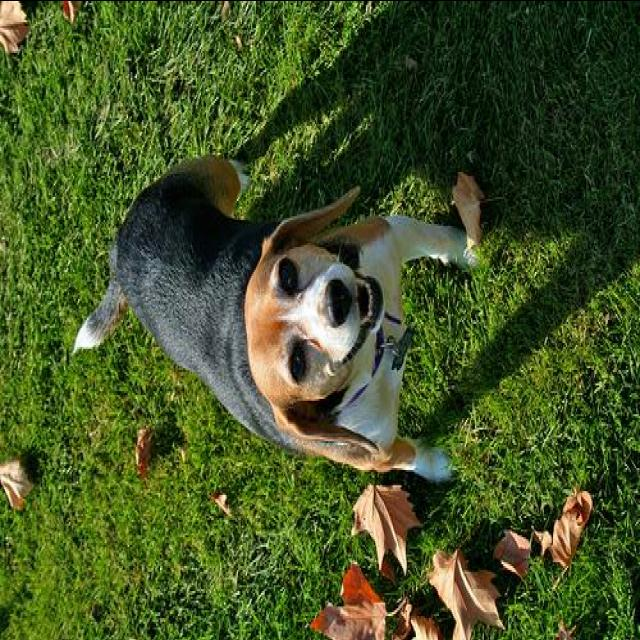beagle: (66, 150, 487, 484)
